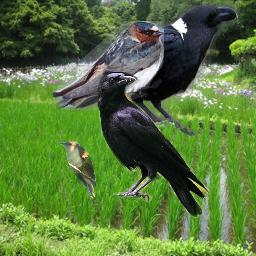Crow: (56, 5, 239, 137), (97, 72, 211, 218)
Cuckoo: (57, 140, 98, 208)
Swallow: (53, 21, 164, 110)
